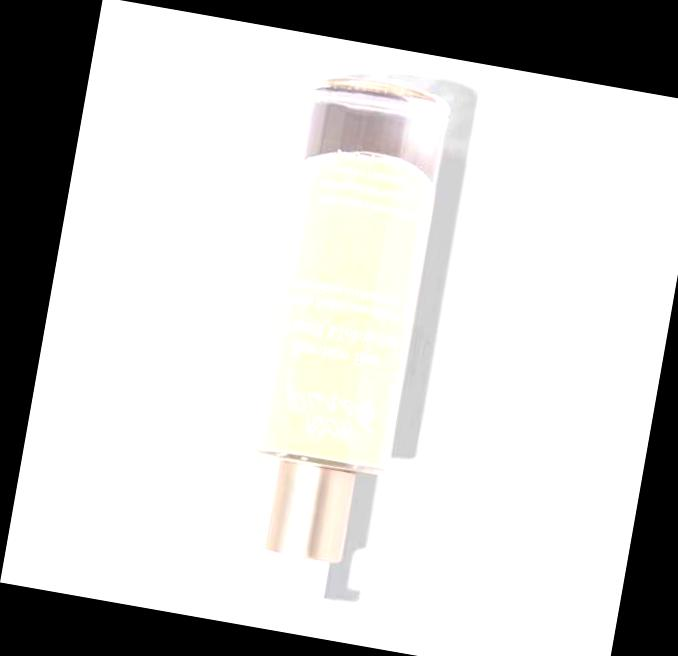cosmetic: (219, 79, 452, 620)
